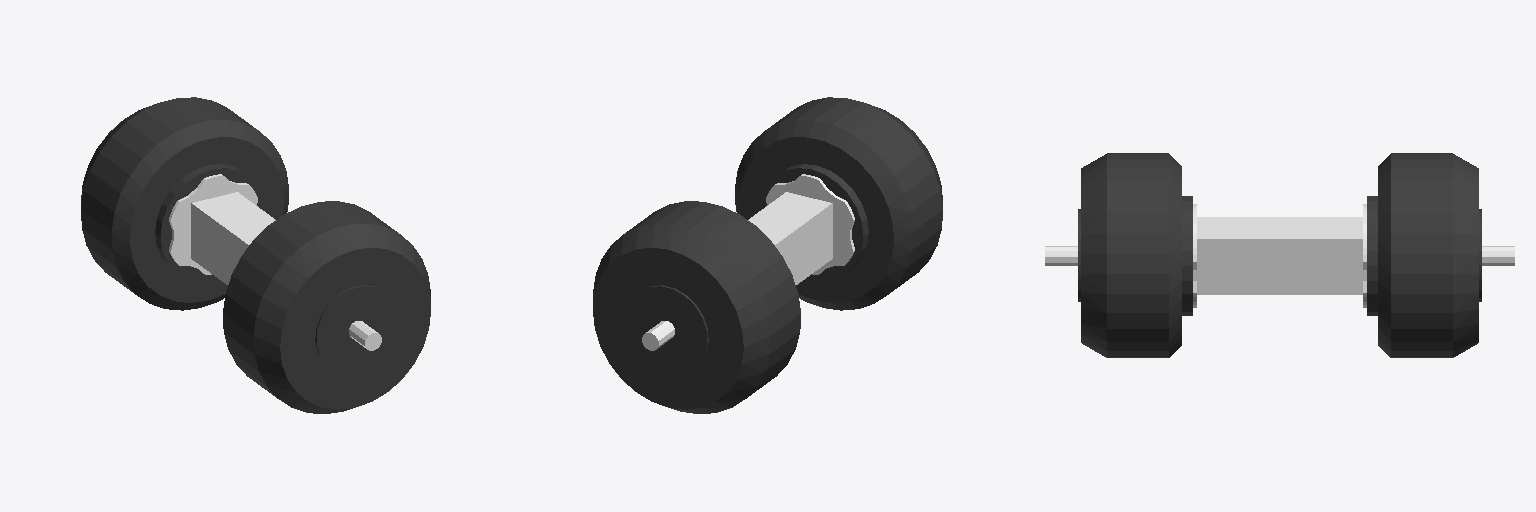
Rendered from Motors_aft_1_optimized.obj.
3 renders of one model, left to right at view 1: azimuth 30°, elevation 25°; view 2: azimuth 150°, elevation 25°; view 3: azimuth 270°, elevation 25°, orthographic.
Parts seen in each view (by area): view 1: Body40; view 2: Body40; view 3: Body40.
Boxes of the visible parts, box(x1,y1,x2,y2) form: Body40: box(81, 97, 430, 413); Body40: box(593, 97, 942, 413); Body40: box(1045, 153, 1514, 357).
Size of the model in its own units: 153 by 153 by 352.